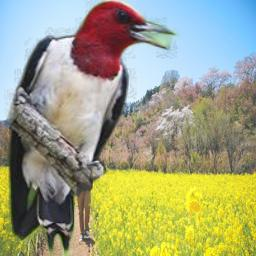Woodpecker: (2, 0, 180, 256)
